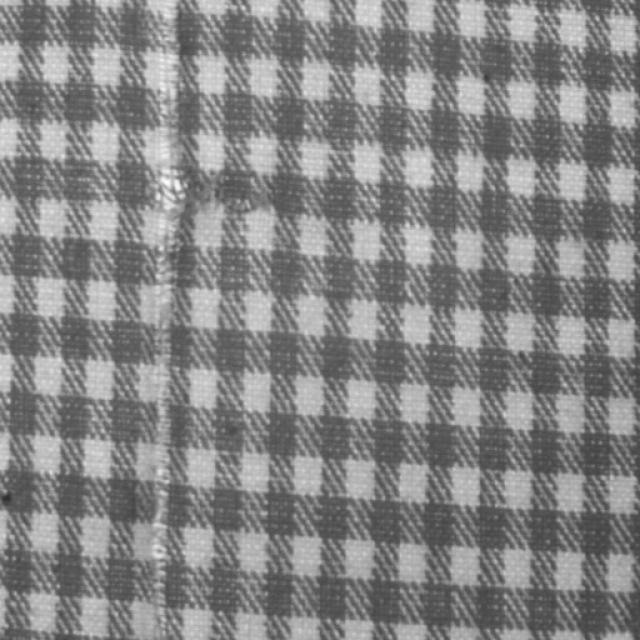Thread-Defect: (153, 0, 200, 639)
